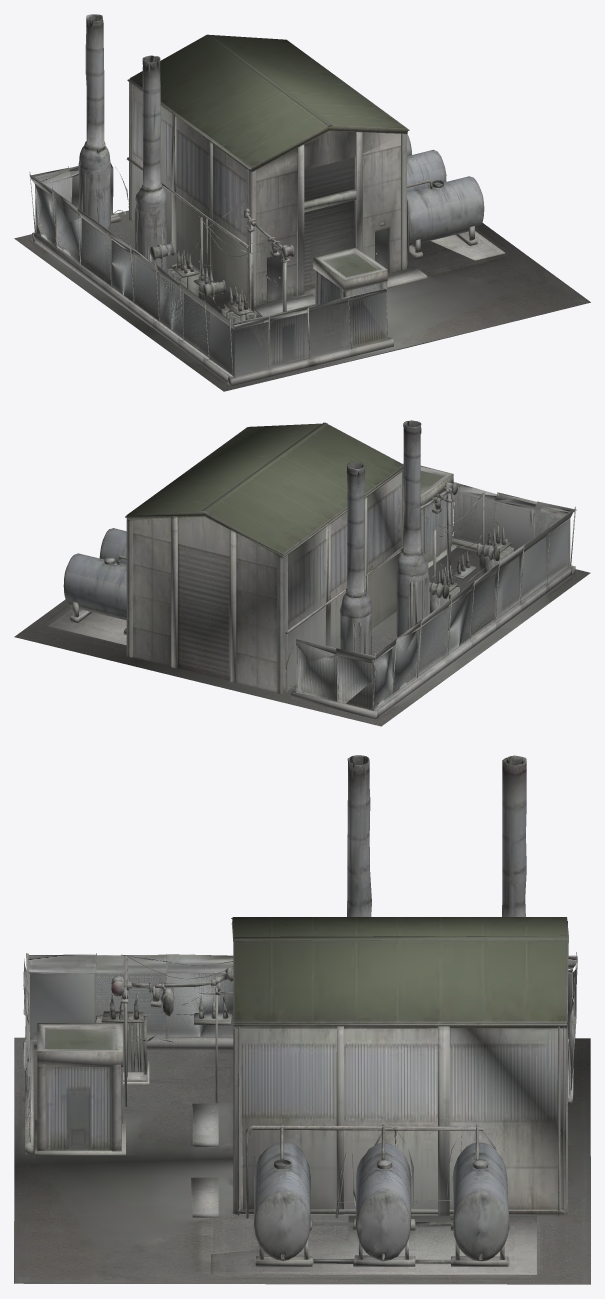
File: power_plant.glb
3 renders of one model, top to bottom at view 1: azimuth 30°, elevation 25°; view 2: azimuth 150°, elevation 25°; view 3: azimuth 270°, elevation 25°, orthographic. The views are drawn at different scales.
Visible parts, largest first — view 1: hull; view 2: hull; view 3: hull.
Part boxes in pixels (x1=…): hull: x1=14, y1=14, x2=590, y2=391; hull: x1=14, y1=420, x2=590, y2=726; hull: x1=14, y1=755, x2=590, y2=1284.
Bounding box in the file's own units: 12.6 × 7.55 × 12.47.
Materials: 3 (3 with a texture image).
